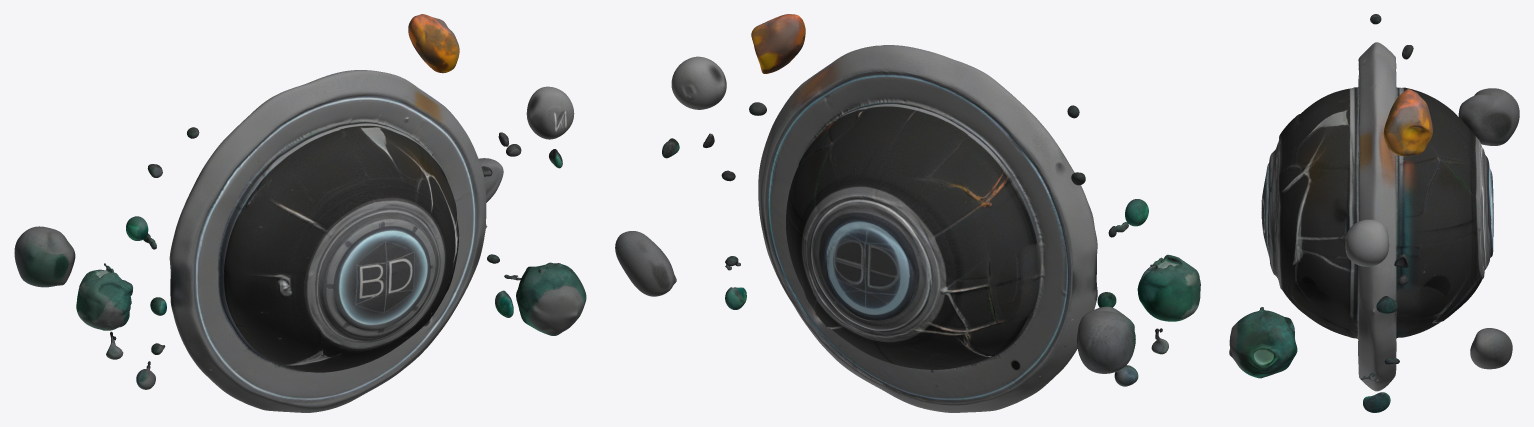
Rendered from burhan-developer-core.glb.
The picture shows the model from 3 angles, left to right: view 1: azimuth 30°, elevation 25°; view 2: azimuth 150°, elevation 25°; view 3: azimuth 270°, elevation 25°; orthographic projection. The views are drawn at different scales.
Bounding box in the file's own units: 2 × 1.38 × 1.08.
Materials: 1 (1 with a texture image).
